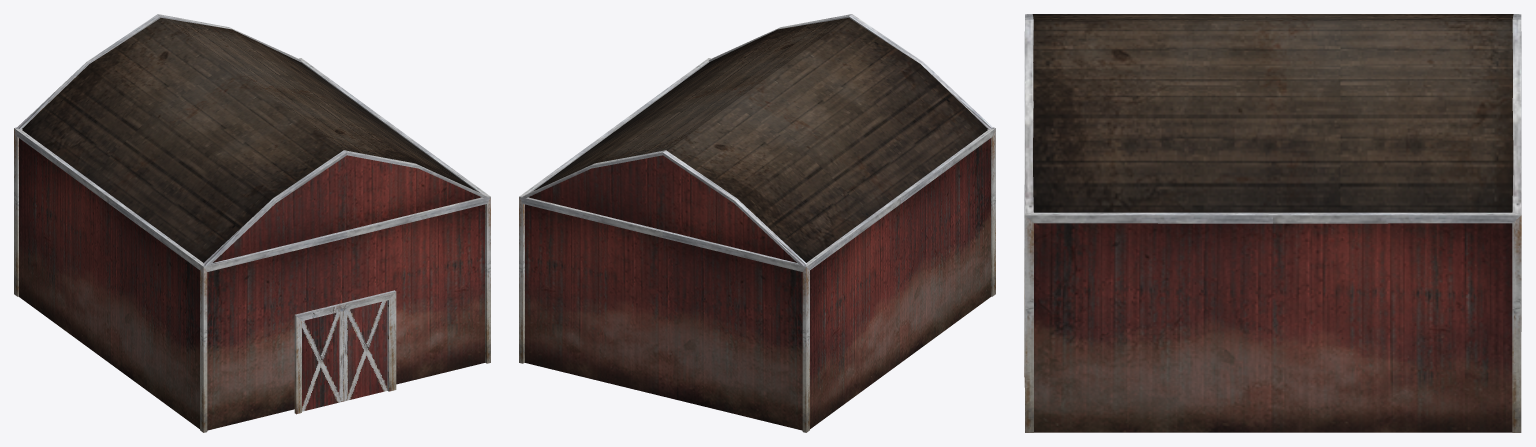
The model's file is Barn.fbx.
3 views of the same model, side by side, from view 1: azimuth 30°, elevation 25°; view 2: azimuth 150°, elevation 25°; view 3: azimuth 270°, elevation 25° (orthographic). The views are drawn at different scales.
Parts seen in each view (by area): view 1: Barn; view 2: Barn; view 3: Barn.
Part boxes in pixels (x1,y1,x2,y2): Barn: (14,14,490,432); Barn: (519,14,995,432); Barn: (1024,14,1521,432).
Size of the model in its own units: 9.63 by 7.98 by 11.02.
Materials: 1 (1 with a texture image).
